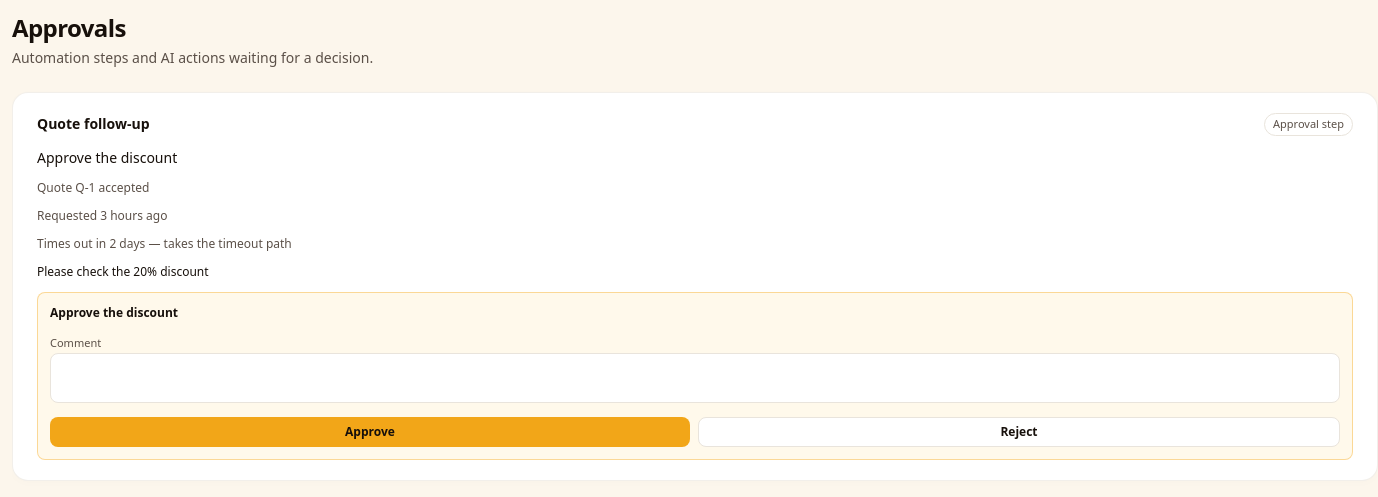
Test: ApprovalsInbox › removes the item after Approve
Click the button "Approve" at (370, 432), box [50,416,690,446]
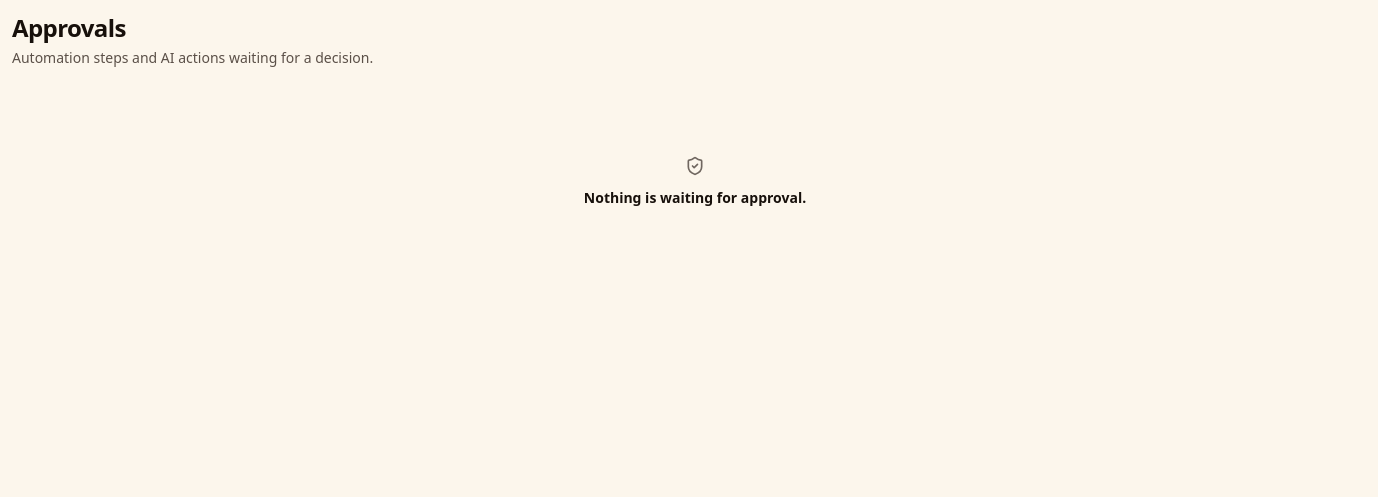
Now the text "Nothing is waiting for approval." is shown, box [584,188,806,208]
